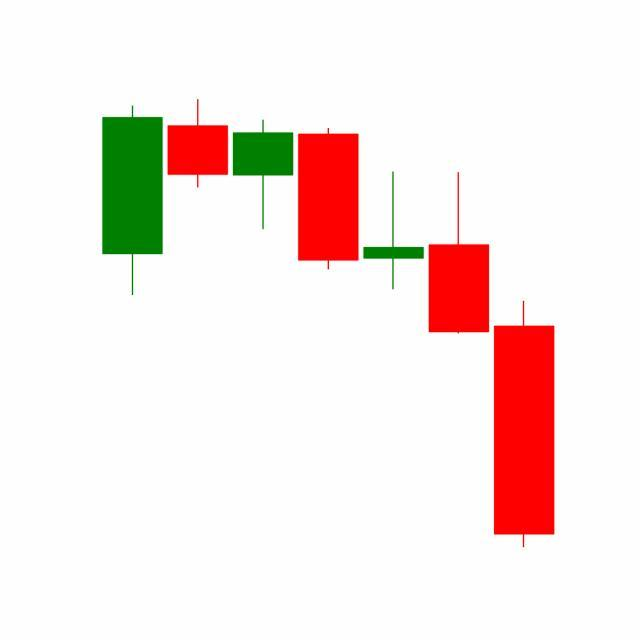Three Outside Up-Down: (360, 167, 556, 549)
